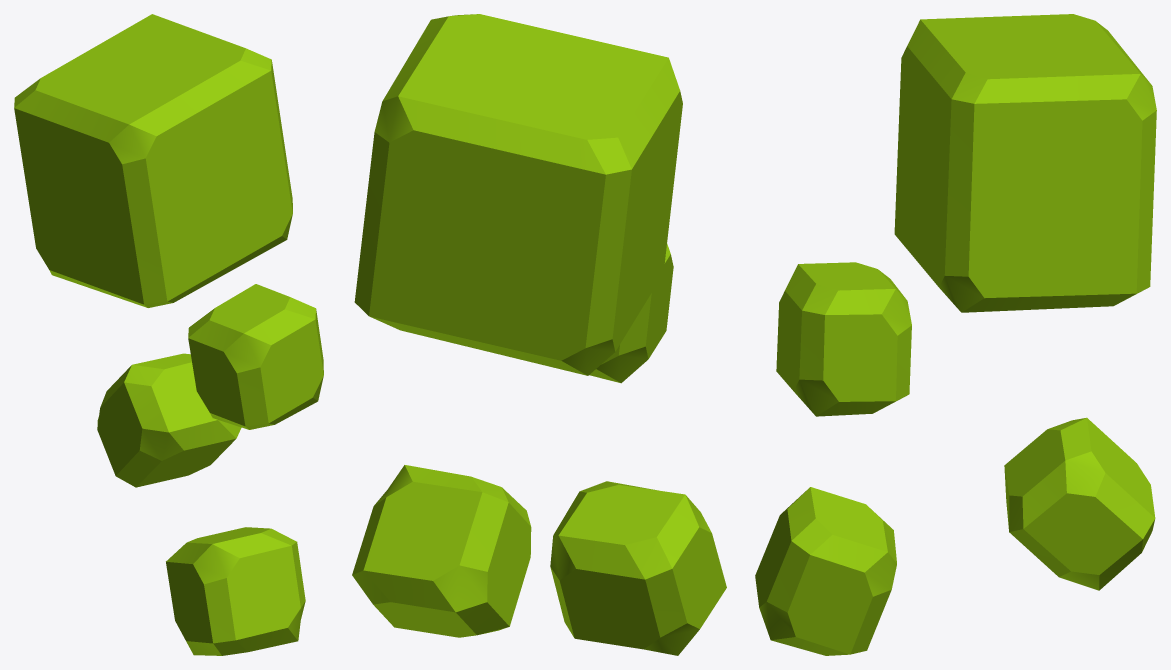
File: tree_big_boxy_bevel_2.fbx
3 renders of one model, left to right at view 1: azimuth 30°, elevation 25°; view 2: azimuth 150°, elevation 25°; view 3: azimuth 270°, elevation 25°, orthographic. The views are drawn at different scales.
Visible parts, largest first — view 1: tree_big_boxy_bevel_2; view 2: tree_big_boxy_bevel_2; view 3: tree_big_boxy_bevel_2.
Boxes of the visible parts, box(x1,y1,x2,y2) form: tree_big_boxy_bevel_2: box(14, 14, 323, 655); tree_big_boxy_bevel_2: box(352, 14, 726, 655); tree_big_boxy_bevel_2: box(755, 14, 1156, 655).
Bounding box in the file's own units: 132 × 295 × 177.
